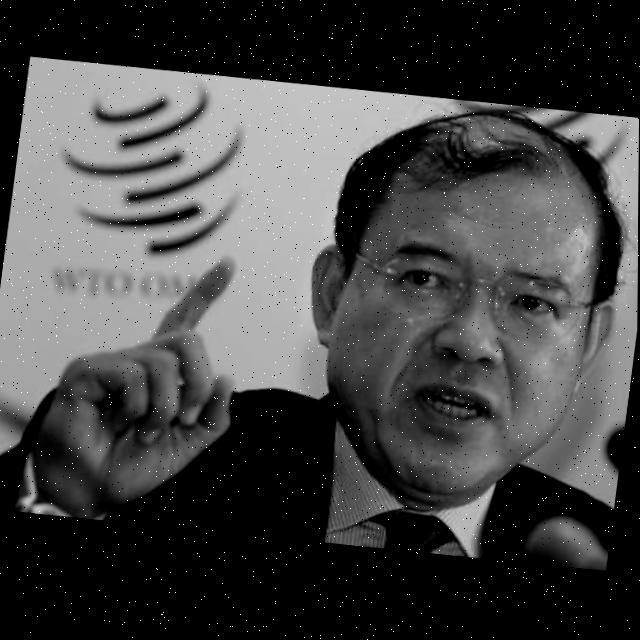face: (287, 92, 639, 523)
